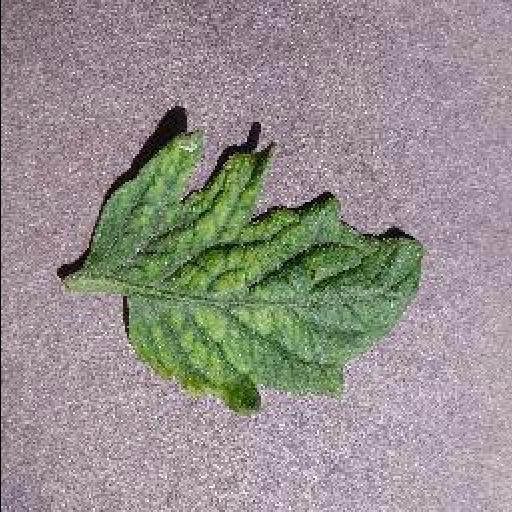disease_tomato: (84, 132, 430, 414)
